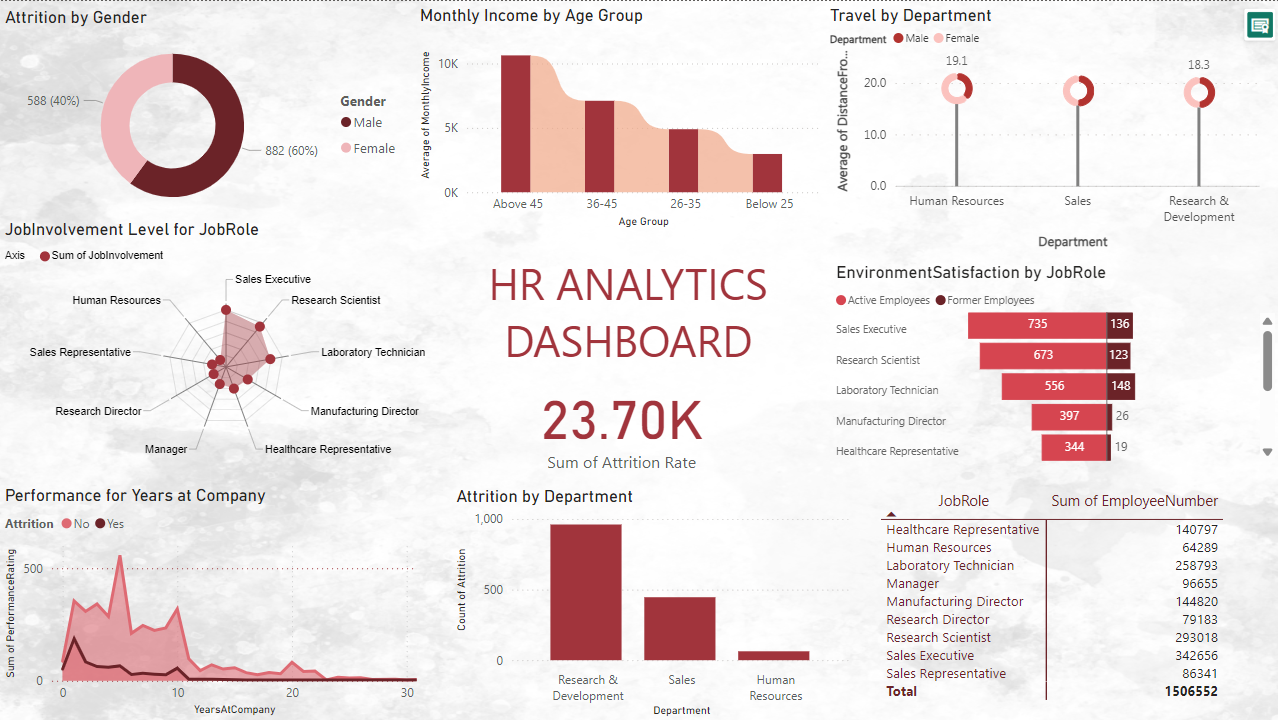

What the dashboard file says about the page in this screenshot:
{"tool":"powerbi","page":{"name":"Charts","canvas":[1280,720],"ordinal":0},"visuals":[{"type":"lineClusteredColumnComboChart","title":"Attrition by Department","fields":{"Category":["HR-Employee-Attrition.Department"],"Y":["CountNonNull(HR-Employee-Attrition.Attrition)"]},"box":[451.8,484.6,404.8,235.2],"z":0},{"type":"ribbonChart","title":"Monthly Income by Age Group","fields":{"Y":["Avg(HR-Employee-Attrition.MonthlyIncome)"],"Category":["HR-Employee-Attrition.Age Group"]},"box":[415,3.8,410,227.5],"z":1000},{"type":"donutChart","title":"Attrition by Gender","fields":{"Category":["HR-Employee-Attrition.Gender"],"Y":["CountNonNull(HR-Employee-Attrition.Attrition)"]},"box":[0,6.2,411.2,217.5],"z":2000},{"type":"lollipopChart50393786178B4137A75F3257CB590B96","title":"Travel by Department","fields":{"category":["HR-Employee-Attrition.Department"],"subCategory":["HR-Employee-Attrition.Gender"],"measure":["Avg(HR-Employee-Attrition.DistanceFromHome)"]},"box":[825.3,4.3,454.7,256.6],"z":3000},{"type":"lineChart","title":"Performance for Years at Company","fields":{"Category":["HR-Employee-Attrition.YearsAtCompany"],"Y":["Sum(HR-Employee-Attrition.PerformanceRating)"],"Series":["HR-Employee-Attrition.Attrition"]},"box":[0,484.2,421.9,236],"z":4000},{"type":"card","fields":{"Values":["Sum(HR-Employee-Attrition.Attrition Rate)"]},"box":[426.2,318.8,391.2,207.5],"z":5000},{"type":"pivotTable","fields":{"Rows":["HR-Employee-Attrition.JobRole"],"Values":["Sum(HR-Employee-Attrition.EmployeeNumber)"]},"box":[876.8,484.2,363.2,236],"z":6000},{"type":"TornadoChart1452517688218","title":"EnvironmentSatisfaction by JobRole","fields":{"Category":["HR-Employee-Attrition.JobRole"],"Values":["Sum(HR-Employee-Attrition.EnvironmentSatisfaction)"],"Series":["HR-Employee-Attrition.Employee_Status"]},"box":[831,260.8,449,223.8],"z":7000},{"type":"RadarChart1446119667547","title":"JobInvolvement Level for JobRole","fields":{"Category":["HR-Employee-Attrition.JobRole"],"Y":["Sum(HR-Employee-Attrition.JobInvolvement)"]},"box":[0,217.7,452.4,251.9],"z":8000},{"type":"textbox","box":[431.2,247.5,393.8,125],"z":8001}]}

Visuals, with their boxes in screenshot pixels (x1, y1, x2, y2), scaled from the page's 1280x720 canvas onto the 1278x720 screenshot:
"Attrition by Department" lineClusteredColumnComboChart: x1=451 y1=485 x2=855 y2=719
"Monthly Income by Age Group" ribbonChart: x1=414 y1=4 x2=824 y2=231
"Attrition by Gender" donutChart: x1=0 y1=6 x2=411 y2=224
"Travel by Department" lollipopChart50393786178B4137A75F3257CB590B96: x1=824 y1=4 x2=1277 y2=261
"Performance for Years at Company" lineChart: x1=0 y1=484 x2=421 y2=719
card - Sum(HR-Employee-Attrition.Attrition Rate): x1=426 y1=319 x2=816 y2=526
pivotTable - HR-Employee-Attrition.JobRole x Sum(HR-Employee-Attrition.EmployeeNumber): x1=875 y1=484 x2=1238 y2=719
"EnvironmentSatisfaction by JobRole" TornadoChart1452517688218: x1=830 y1=261 x2=1277 y2=485
"JobInvolvement Level for JobRole" RadarChart1446119667547: x1=0 y1=218 x2=452 y2=470
textbox: x1=431 y1=248 x2=824 y2=372
